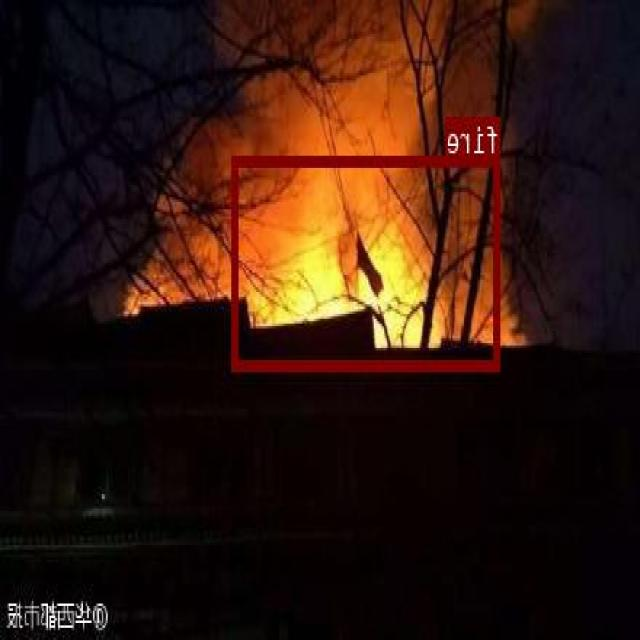fire: (234, 154, 501, 367)
